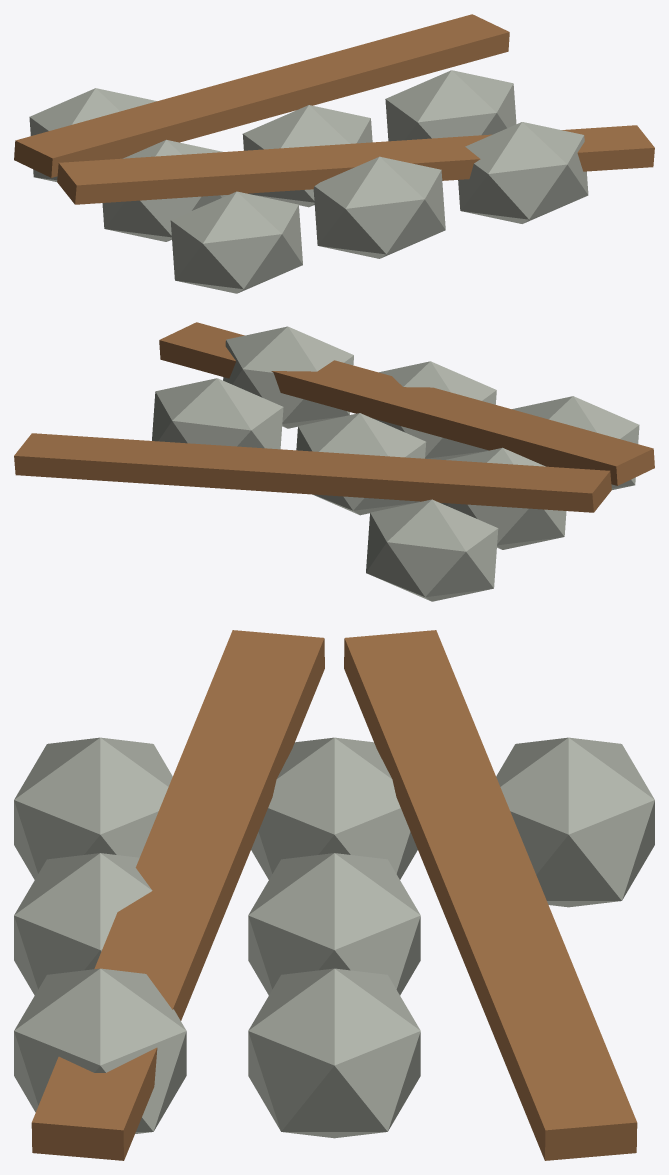
Rendered from TR3_Debris_Cluster.glb.
3 renders of one model, top to bottom at view 1: azimuth 30°, elevation 25°; view 2: azimuth 150°, elevation 25°; view 3: azimuth 270°, elevation 25°, orthographic. The views are drawn at different scales.
Visible parts, largest first — view 1: TR3_Debris_Cluster; view 2: TR3_Debris_Cluster; view 3: TR3_Debris_Cluster.
Part boxes in pixels (left/top/right/bottom): TR3_Debris_Cluster: left=14, top=14, right=654, bottom=293; TR3_Debris_Cluster: left=14, top=322, right=654, bottom=601; TR3_Debris_Cluster: left=14, top=630, right=654, bottom=1160.
Size of the model in its own units: 1.3 by 0.2544 by 0.8212.
